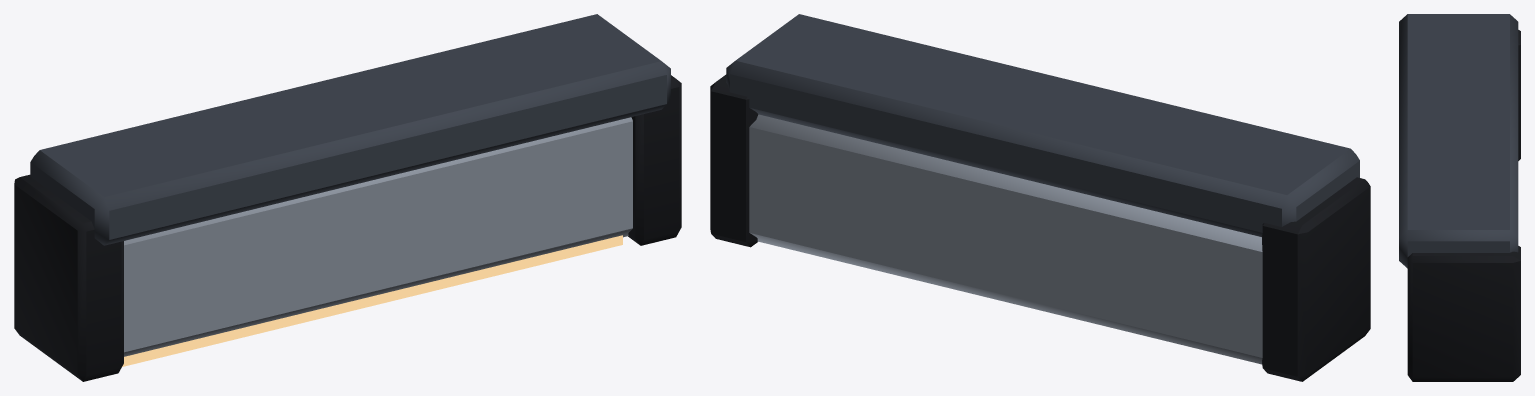
The model's file is panellight_wall_grazer.glb.
3 views of the same model, side by side, from view 1: azimuth 30°, elevation 25°; view 2: azimuth 150°, elevation 25°; view 3: azimuth 270°, elevation 25° (orthographic). The views are drawn at different scales.
Visible parts, largest first — view 1: panellight_wall_grazer; view 2: panellight_wall_grazer; view 3: panellight_wall_grazer.
Part boxes in pixels (left/top/right/bottom): panellight_wall_grazer: left=14, top=14, right=681, bottom=381; panellight_wall_grazer: left=710, top=14, right=1370, bottom=381; panellight_wall_grazer: left=1399, top=14, right=1520, bottom=381.
Bounding box in the file's own units: 0.65 × 0.19 × 0.143.
